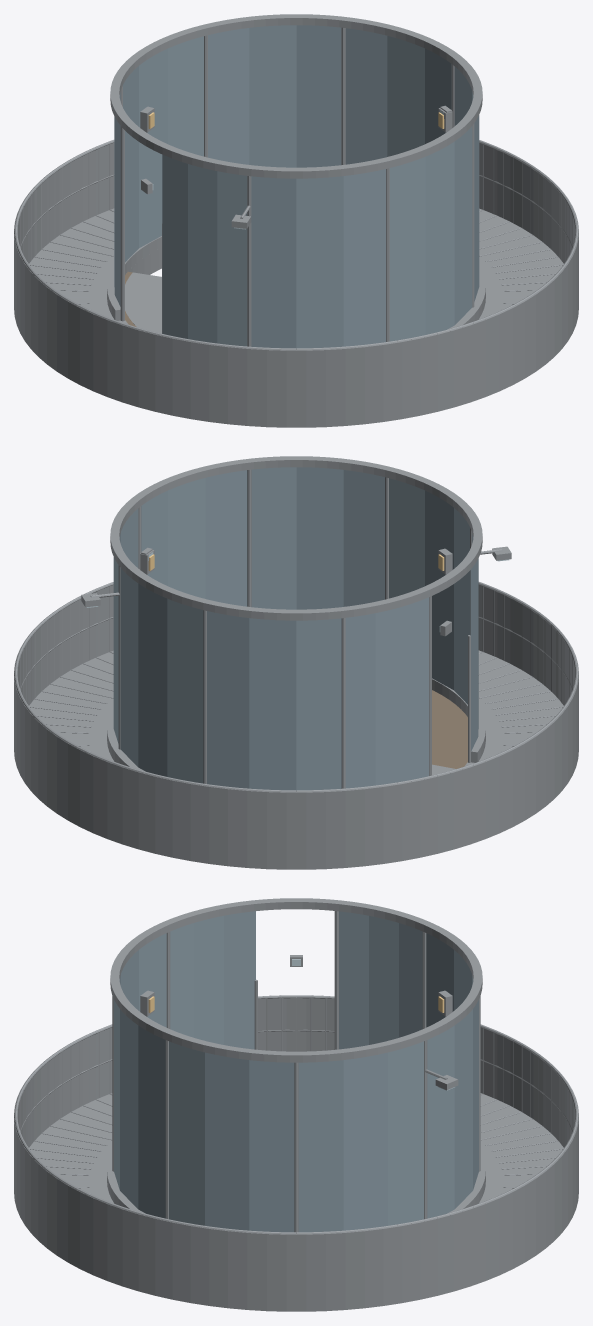
Rendered from SM_Shell_F4.fbx.
3 renders of one model, top to bottom at view 1: azimuth 30°, elevation 25°; view 2: azimuth 150°, elevation 25°; view 3: azimuth 270°, elevation 25°, orthographic.
Visible parts, largest first — view 1: SM_Safety_Gallery, SM_Glass_Lantern_0, SM_Glass_Lantern_6, SM_Gallery_Deck, SM_Glass_Lantern_9, SM_Glass_Lantern_1, SM_Glass_Lantern_7, SM_Glass_Lantern_5, SM_Frame_Lantern_Top, SM_Gallery_Toeboard, SM_Floor_Lantern_Threshold, SM_Landing_F3_F4_arrival (+8 smaller); view 2: SM_Safety_Gallery, SM_Glass_Lantern_5, SM_Glass_Lantern_9, SM_Gallery_Deck, SM_Glass_Lantern_6, SM_Glass_Lantern_4, SM_Glass_Lantern_8, SM_Glass_Lantern_0, SM_Frame_Lantern_Top, SM_Gallery_Toeboard, SM_Floor_F4, SM_Glass_Lantern_7 (+9 smaller); view 3: SM_Safety_Gallery, SM_Glass_Lantern_7, SM_Glass_Lantern_8, SM_Gallery_Deck, SM_Glass_Lantern_1, SM_Glass_Lantern_4, SM_Frame_Lantern_Top, SM_Glass_Lantern_9, SM_Glass_Lantern_6, SM_Gallery_Toeboard, SM_Glass_Lantern_0, SM_Glass_Lantern_5 (+6 smaller).
Boxes of the visible parts, x1,y1,x2,y2 form: SM_Safety_Gallery: [14, 143, 578, 416]; SM_Glass_Lantern_0: [251, 169, 385, 348]; SM_Glass_Lantern_6: [208, 25, 341, 167]; SM_Gallery_Deck: [14, 208, 578, 427]; SM_Glass_Lantern_9: [389, 126, 472, 341]; SM_Glass_Lantern_1: [162, 154, 247, 346]; SM_Glass_Lantern_7: [345, 28, 451, 164]; SM_Glass_Lantern_5: [123, 36, 203, 262]; SM_Frame_Lantern_Top: [110, 14, 482, 178]; SM_Gallery_Toeboard: [14, 201, 578, 416]; SM_Floor_Lantern_Threshold: [90, 249, 502, 324]; SM_Landing_F3_F4_arrival: [125, 272, 161, 333]; SM_Safety_Gallery: [14, 585, 578, 858]; SM_Glass_Lantern_5: [207, 611, 341, 790]; SM_Glass_Lantern_9: [251, 467, 384, 609]; SM_Gallery_Deck: [14, 650, 578, 869]; SM_Glass_Lantern_6: [120, 568, 203, 783]; SM_Glass_Lantern_4: [345, 597, 428, 788]; SM_Glass_Lantern_8: [141, 470, 247, 606]; SM_Glass_Lantern_0: [389, 478, 469, 704]; SM_Frame_Lantern_Top: [110, 456, 482, 620]; SM_Gallery_Toeboard: [14, 643, 578, 858]; SM_Floor_F4: [432, 690, 467, 768]; SM_Glass_Lantern_7: [113, 509, 138, 743]; SM_Safety_Gallery: [14, 998, 578, 1300]; SM_Glass_Lantern_7: [298, 1041, 423, 1232]; SM_Glass_Lantern_8: [169, 1041, 294, 1232]; SM_Gallery_Deck: [14, 1093, 578, 1311]; SM_Glass_Lantern_1: [170, 911, 255, 1049]; SM_Glass_Lantern_4: [339, 911, 422, 1049]; SM_Frame_Lantern_Top: [110, 898, 482, 1062]; SM_Glass_Lantern_9: [114, 1000, 165, 1218]; SM_Glass_Lantern_6: [427, 1000, 478, 1218]; SM_Gallery_Toeboard: [14, 1086, 578, 1300]; SM_Glass_Lantern_0: [119, 933, 166, 1027]; SM_Glass_Lantern_5: [426, 933, 473, 1027].
Size of what is drawn, in the model's own units: 849 by 375 by 850.
